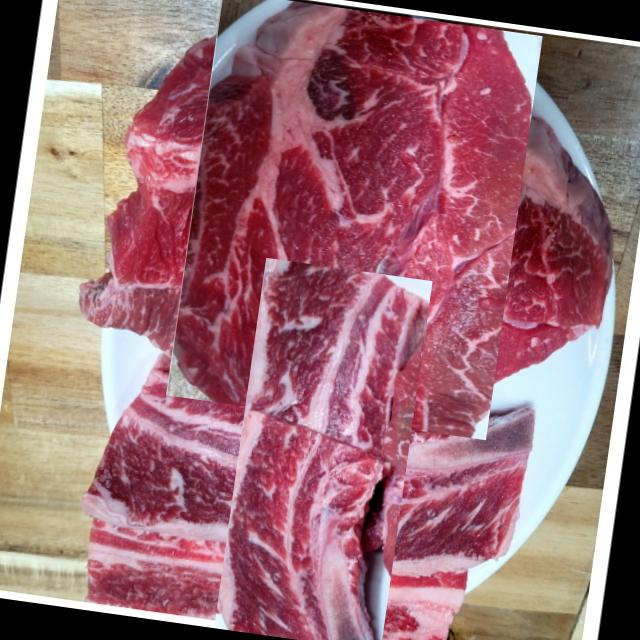beef: (148, 9, 562, 422), (161, 308, 483, 630)
